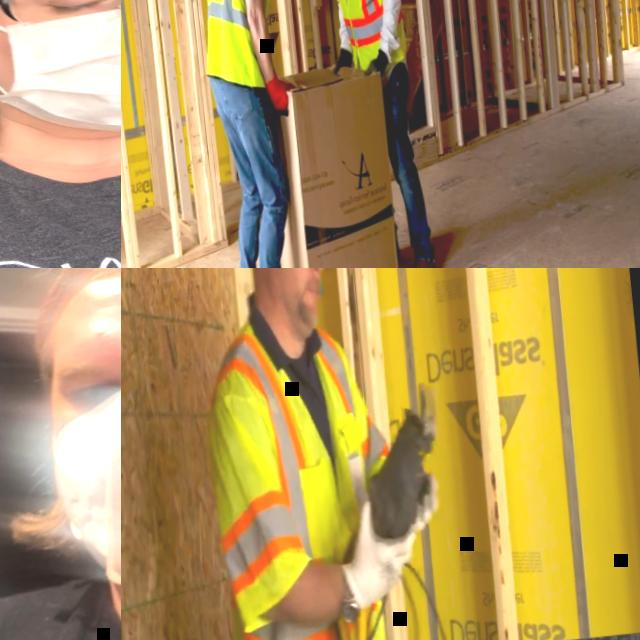Mask: (0, 0, 121, 140)
NO-Mask: (48, 380, 121, 600), (264, 268, 324, 337)
NO-Safety Vest: (0, 86, 121, 268), (0, 540, 121, 640)
Person: (177, 268, 459, 640), (0, 268, 121, 640), (175, 0, 322, 268), (301, 0, 442, 268), (0, 0, 121, 268)
Safety Vest: (196, 303, 413, 640), (187, 0, 279, 90), (321, 0, 412, 84)
